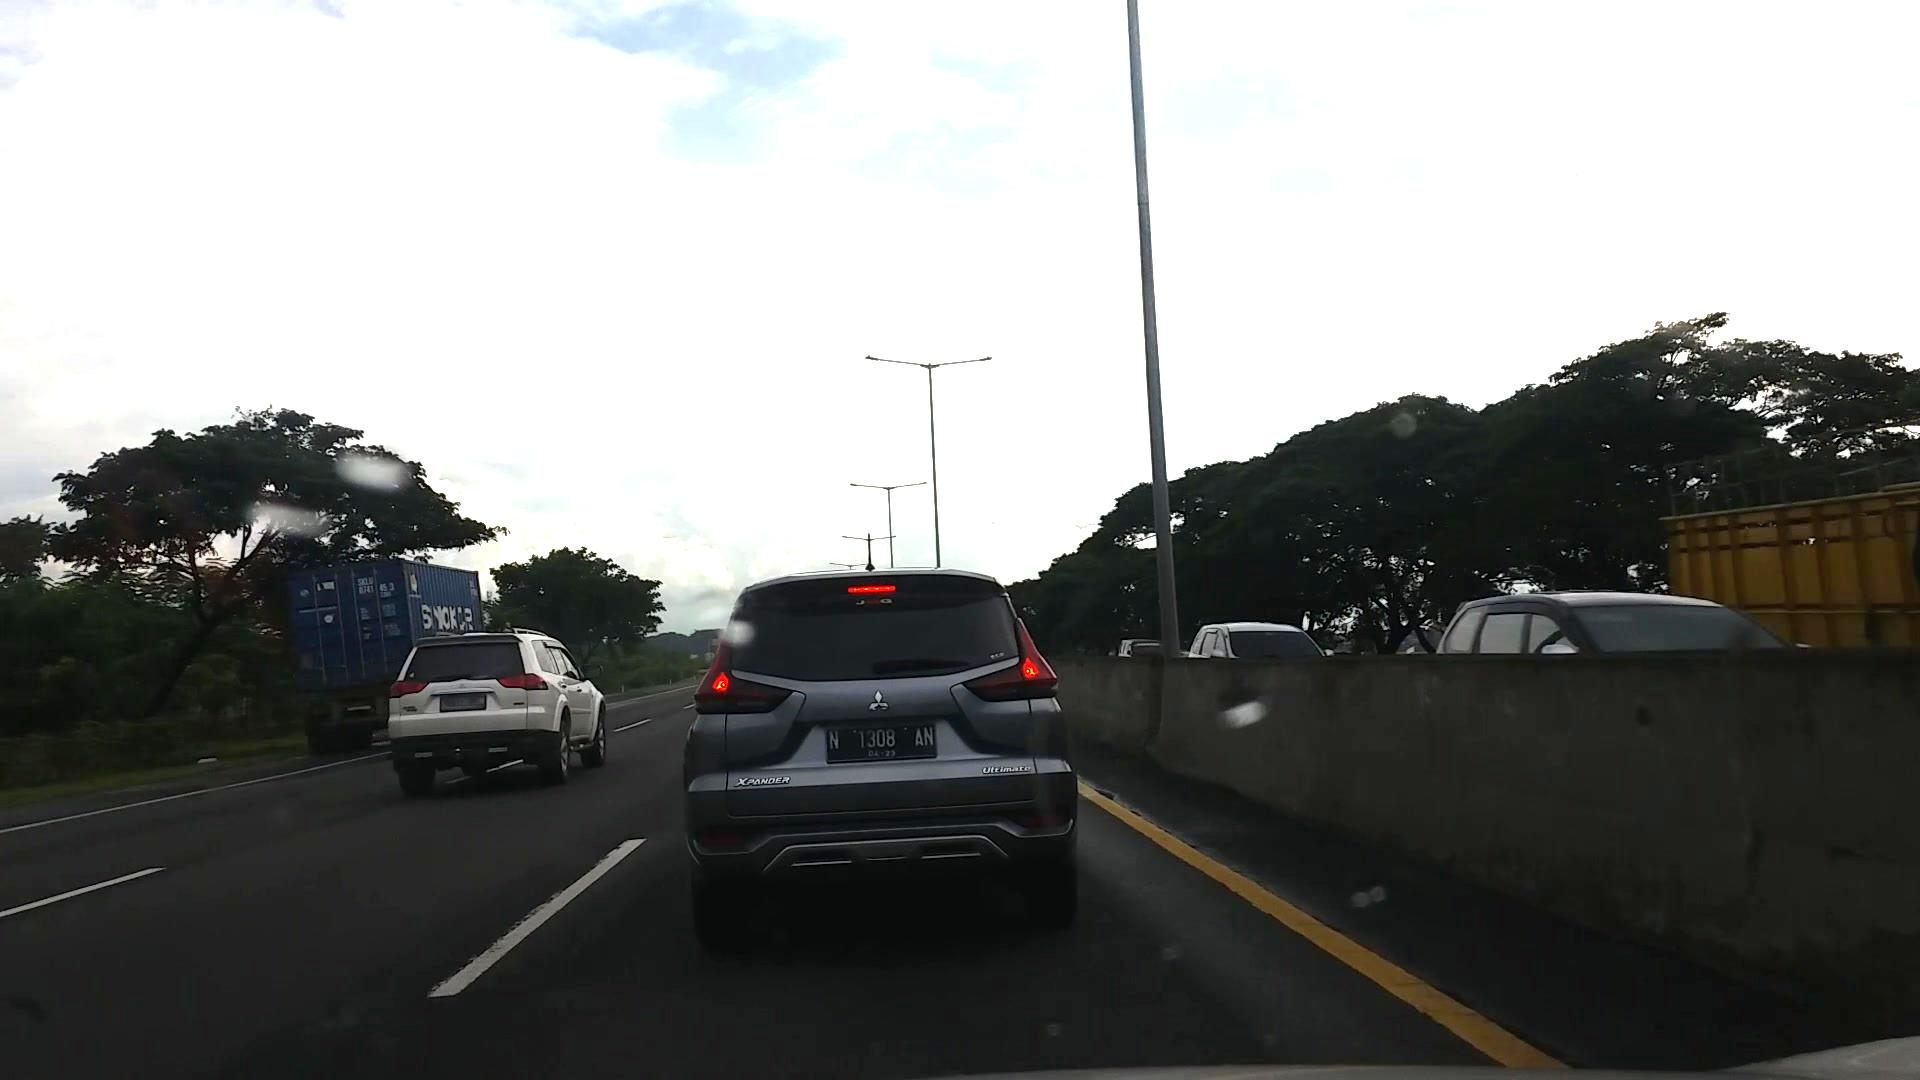plate_positive: (825, 723, 936, 762)
